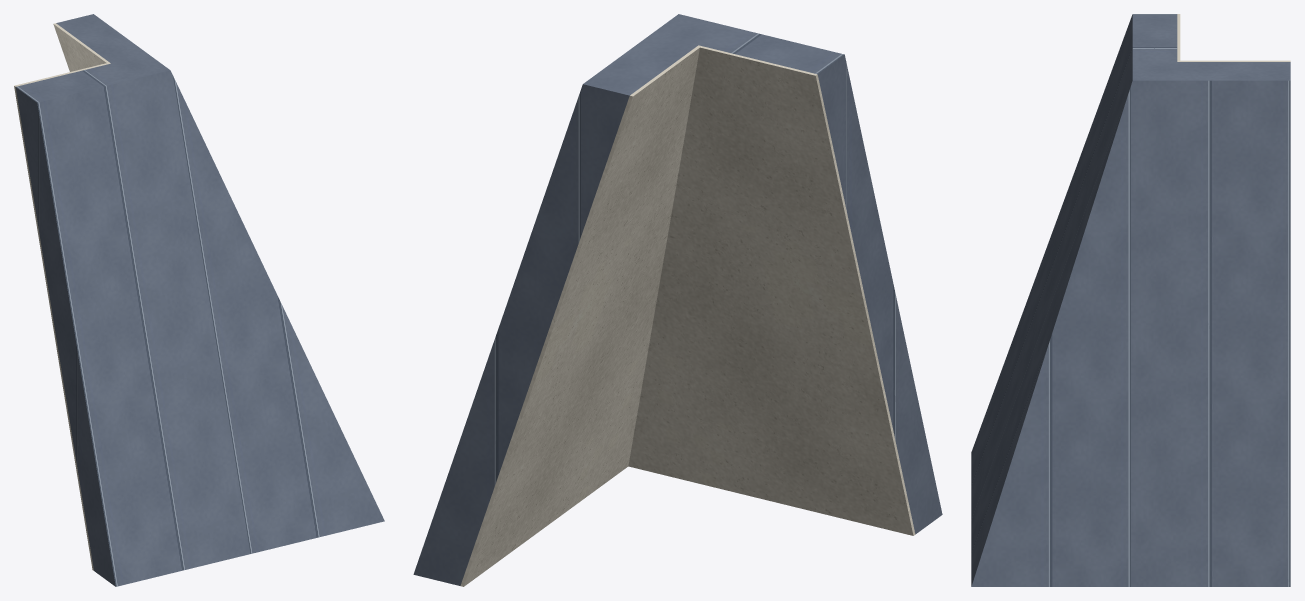
The model's file is mansard_corner.glb.
3 views of the same model, side by side, from view 1: azimuth 30°, elevation 25°; view 2: azimuth 150°, elevation 25°; view 3: azimuth 270°, elevation 25° (orthographic). The views are drawn at different scales.
Parts seen in each view (by area): view 1: mansard_corner_zinc, mansard_corner_plaster; view 2: mansard_corner_plaster, mansard_corner_zinc; view 3: mansard_corner_zinc.
Boxes of the visible parts, box(x1,y1,x2,y2) form: mansard_corner_zinc: box(15, 14, 384, 586); mansard_corner_plaster: box(14, 23, 110, 570); mansard_corner_plaster: box(460, 45, 915, 586); mansard_corner_zinc: box(413, 14, 942, 585); mansard_corner_zinc: box(971, 14, 1290, 586).
Size of the model in its own units: 2 by 3.03 by 2.
Materials: 2 (2 with a texture image).
